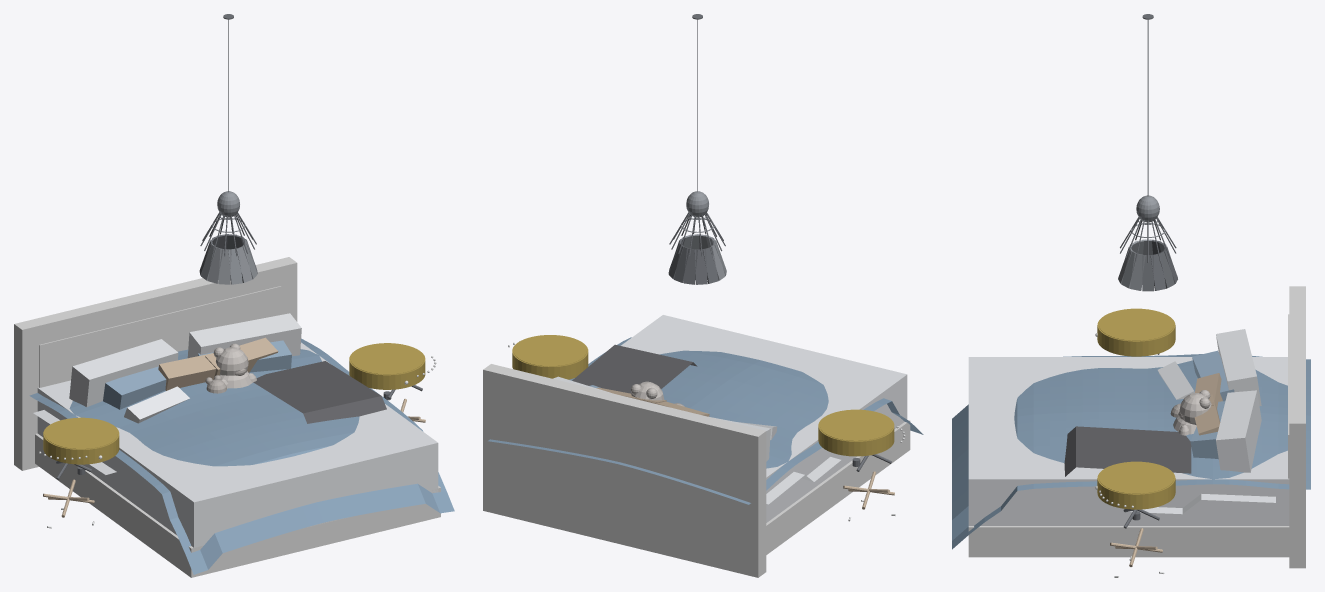
3 renders of one model, left to right at view 1: azimuth 30°, elevation 25°; view 2: azimuth 150°, elevation 25°; view 3: azimuth 270°, elevation 25°, orthographic. The views are drawn at different scales.
Parts seen in each view (by area): view 1: bed_duvet, bed_mattress, bed_headboard_outer, bed_base, bed_headboard_inner, bed_throw, pillow_back_l, pillow_back_r, night_right_top, night_left_top, pillow_blue_l, pillow_brown_l (+6 smaller); view 2: bed_headboard_outer, bed_duvet, bed_mattress, bed_base, bed_throw, night_right_top, night_left_top, night_left_drum, night_right_drum, bed_sheet; view 3: bed_mattress, bed_duvet, bed_base, bed_headboard_outer, bed_throw, pillow_back_r, pillow_back_l, night_left_top, night_right_top, night_left_drum, night_right_drum, bed_sheet (+7 smaller).
Part boxes in pixels (x1,y1,x2,y2): bed_duvet: [29, 338, 454, 574]; bed_mattress: [37, 342, 438, 547]; bed_headboard_outer: [14, 257, 297, 470]; bed_base: [35, 433, 440, 577]; bed_headboard_inner: [39, 286, 281, 387]; bed_throw: [253, 361, 386, 423]; pillow_back_l: [69, 339, 178, 407]; pillow_back_r: [187, 313, 301, 358]; night_right_top: [350, 343, 423, 374]; night_left_top: [44, 418, 117, 449]; pillow_blue_l: [103, 366, 166, 409]; pillow_brown_l: [158, 353, 216, 390]; bed_headboard_outer: [483, 364, 766, 577]; bed_duvet: [488, 337, 923, 504]; bed_mattress: [621, 315, 907, 522]; bed_base: [766, 420, 910, 554]; bed_throw: [572, 344, 697, 393]; night_right_top: [513, 335, 586, 366]; night_left_top: [820, 410, 892, 440]; night_left_drum: [818, 409, 894, 456]; night_right_drum: [512, 335, 588, 379]; bed_sheet: [766, 457, 840, 504]; bed_mattress: [968, 357, 1289, 525]; bed_duvet: [952, 354, 1310, 549]; bed_base: [968, 526, 1289, 557]; bed_headboard_outer: [1289, 286, 1305, 568]; bed_throw: [1064, 426, 1191, 476]; pillow_back_r: [1216, 390, 1261, 472]; pillow_back_l: [1216, 329, 1261, 405]; night_left_top: [1099, 309, 1173, 340]; night_right_top: [1099, 462, 1173, 493]; night_left_drum: [1097, 308, 1175, 356]; night_right_drum: [1097, 461, 1175, 509]; bed_sheet: [1128, 494, 1275, 514].
Size of the model in its own units: 2.81 by 3.21 by 2.16.
